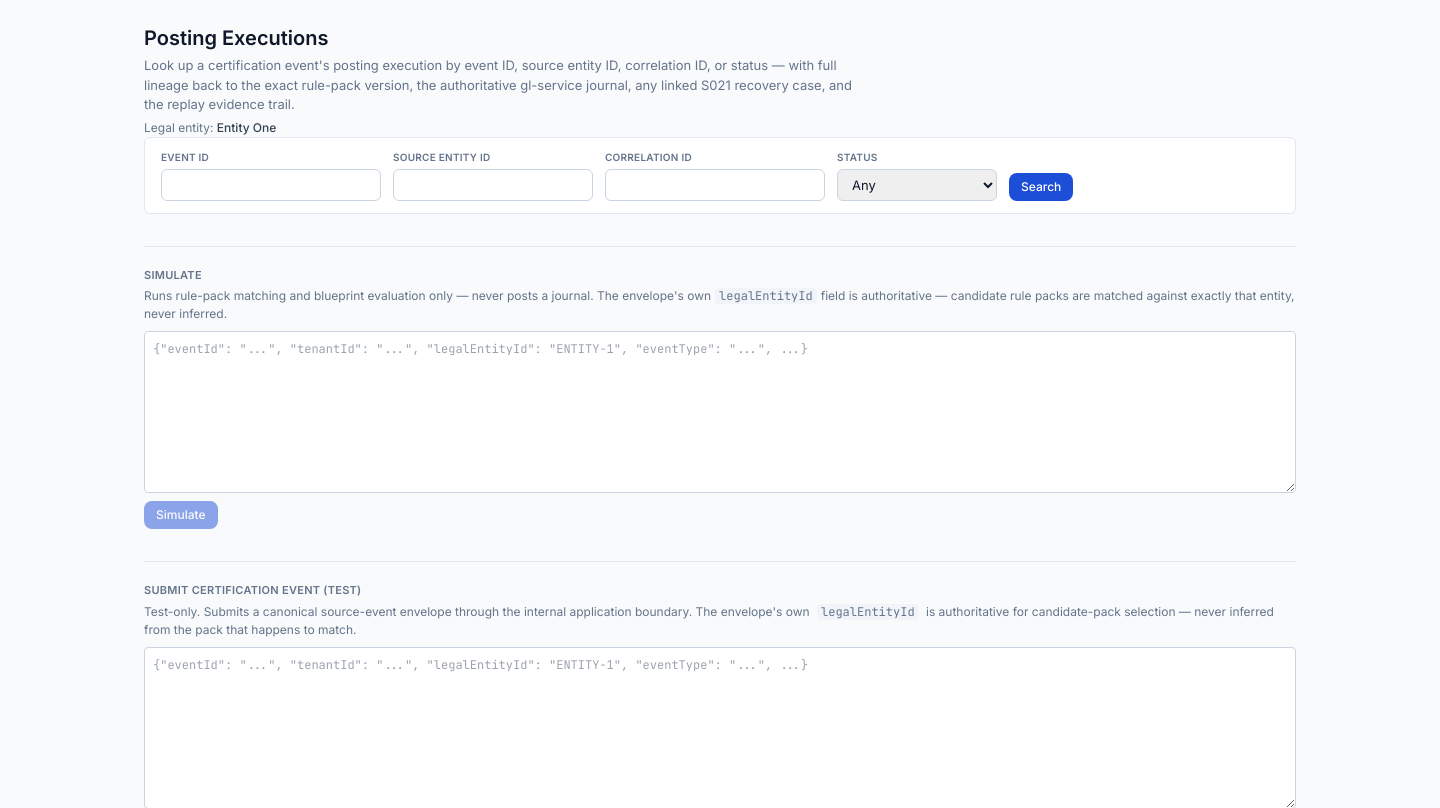
it: PostingExecutions screen › shows an empty state when the search returns nothing
Click the button with test id "posting-executions-search-button": [1041, 186] box [1009, 172, 1073, 200]
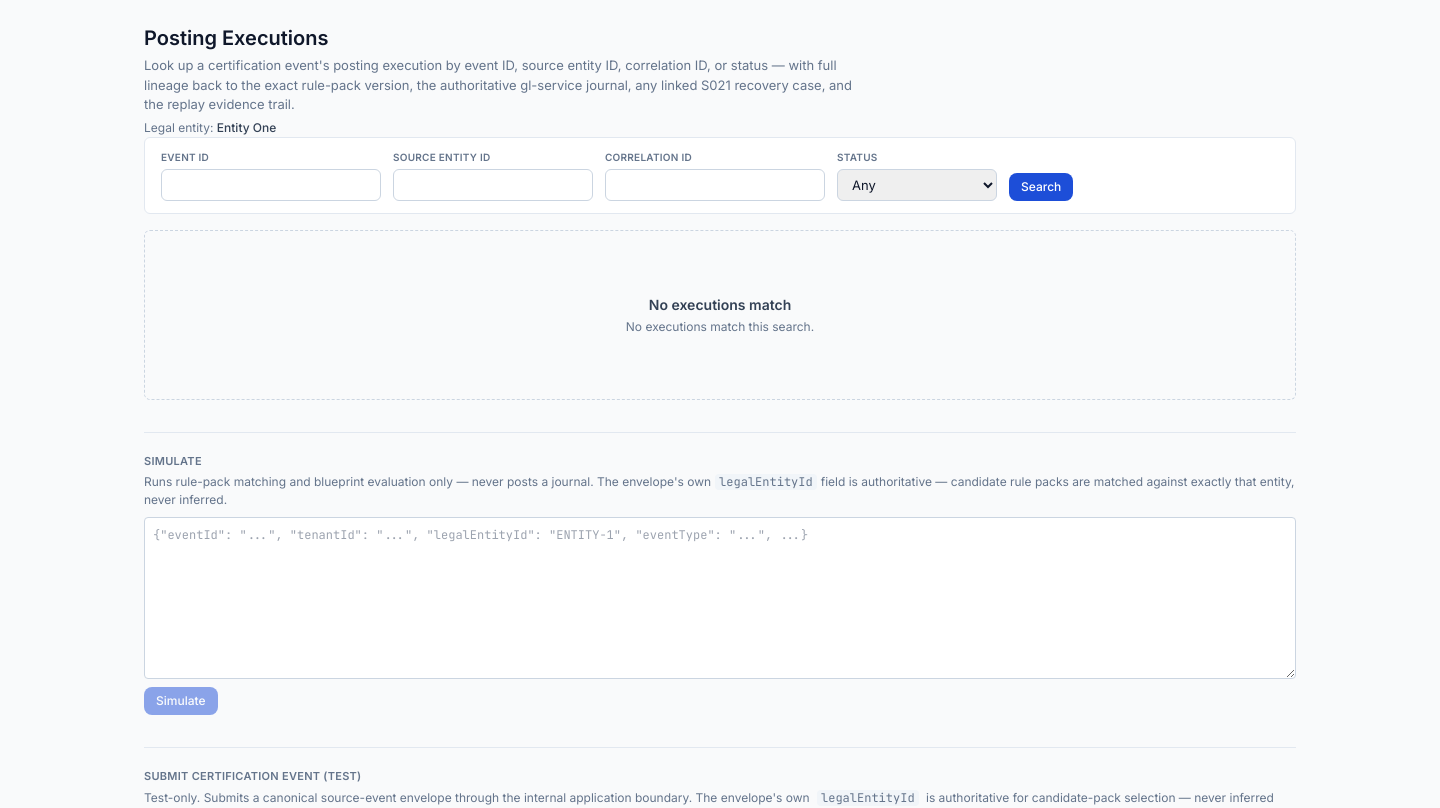
Expected: the element with test id "posting-executions-empty" is shown, [144, 230, 1296, 400]
